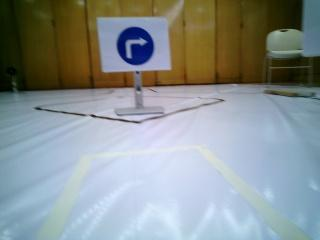right: (102, 20, 165, 71)
